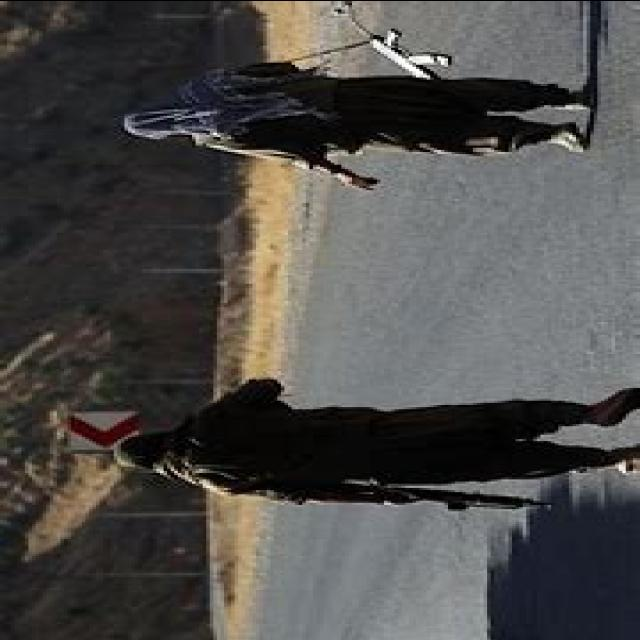terrorist: (117, 2, 590, 189), (114, 378, 636, 510)
